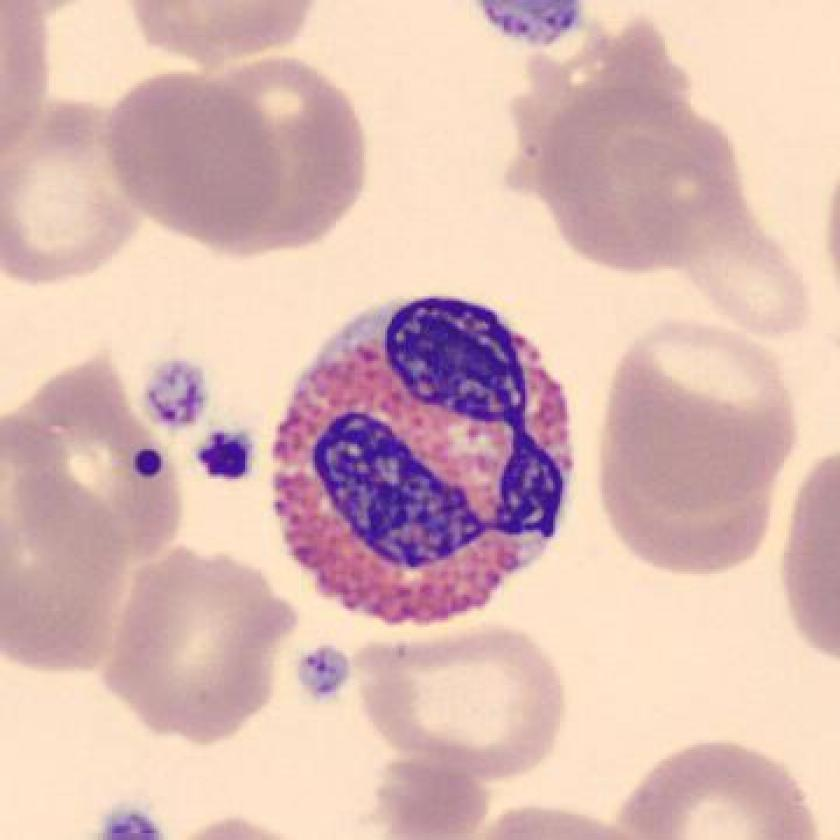eosinophil: (260, 277, 587, 638)
